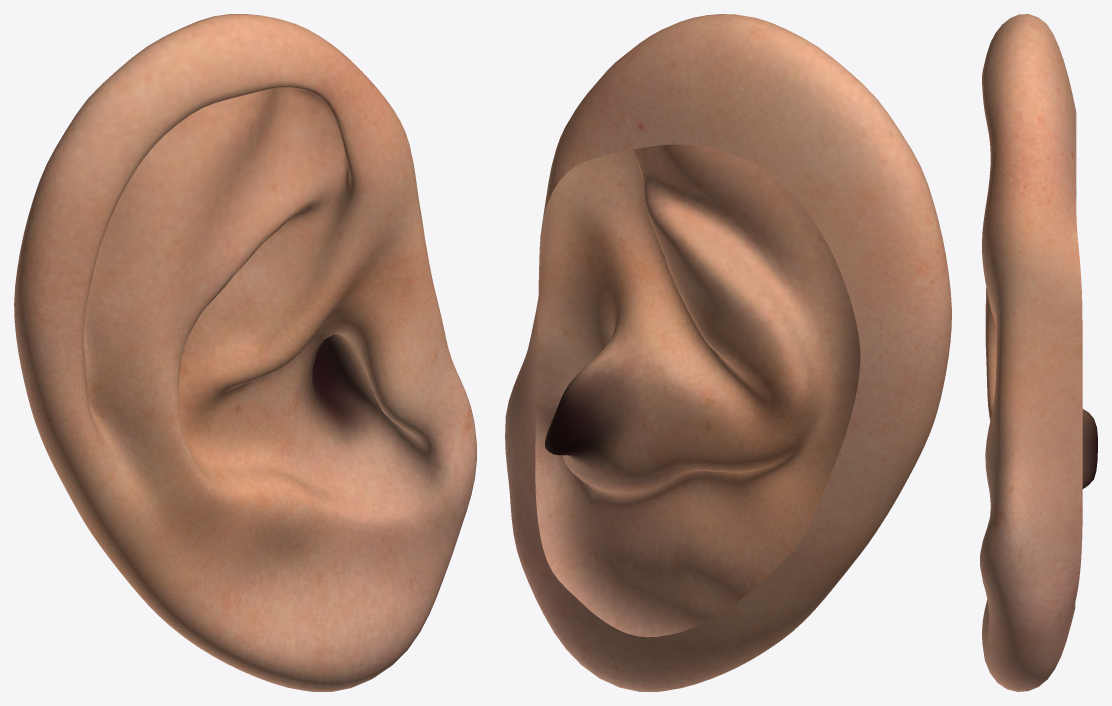
The model's file is human_ear_model.glb.
The picture shows the model from 3 angles, left to right: view 1: azimuth 30°, elevation 25°; view 2: azimuth 150°, elevation 25°; view 3: azimuth 270°, elevation 25°; orthographic projection. The views are drawn at different scales.
Visible parts, largest first — view 1: earnewmeshh_2; view 2: earnewmeshh_2; view 3: earnewmeshh_2.
Boxes of the visible parts, box(x1,y1,x2,y2) form: earnewmeshh_2: box(14, 14, 476, 691); earnewmeshh_2: box(505, 14, 951, 691); earnewmeshh_2: box(980, 14, 1097, 691).
Size of the model in its own units: 2.53 by 3.75 by 0.6623.
1 material, 1 textured.
